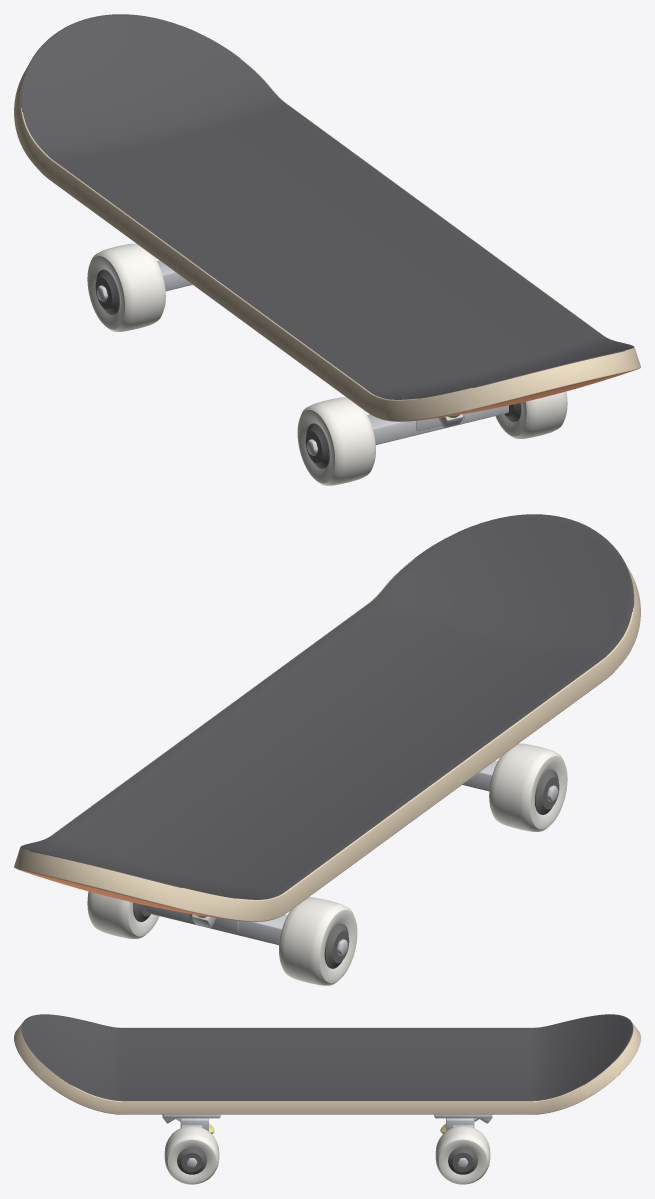
The model's file is fingerboard-hi.glb.
The picture shows the model from 3 angles, top to bottom: view 1: azimuth 30°, elevation 25°; view 2: azimuth 150°, elevation 25°; view 3: azimuth 270°, elevation 25°; orthographic projection. The views are drawn at different scales.
Visible parts, largest first — view 1: fingerboard.001; view 2: fingerboard.001; view 3: fingerboard.001.
Boxes of the visible parts, x1,y1,x2,y2 form: fingerboard.001: [14, 14, 640, 485]; fingerboard.001: [14, 514, 640, 985]; fingerboard.001: [14, 1014, 640, 1184].
Bounding box in the file's own units: 1.28 × 0.9412 × 4.4.
